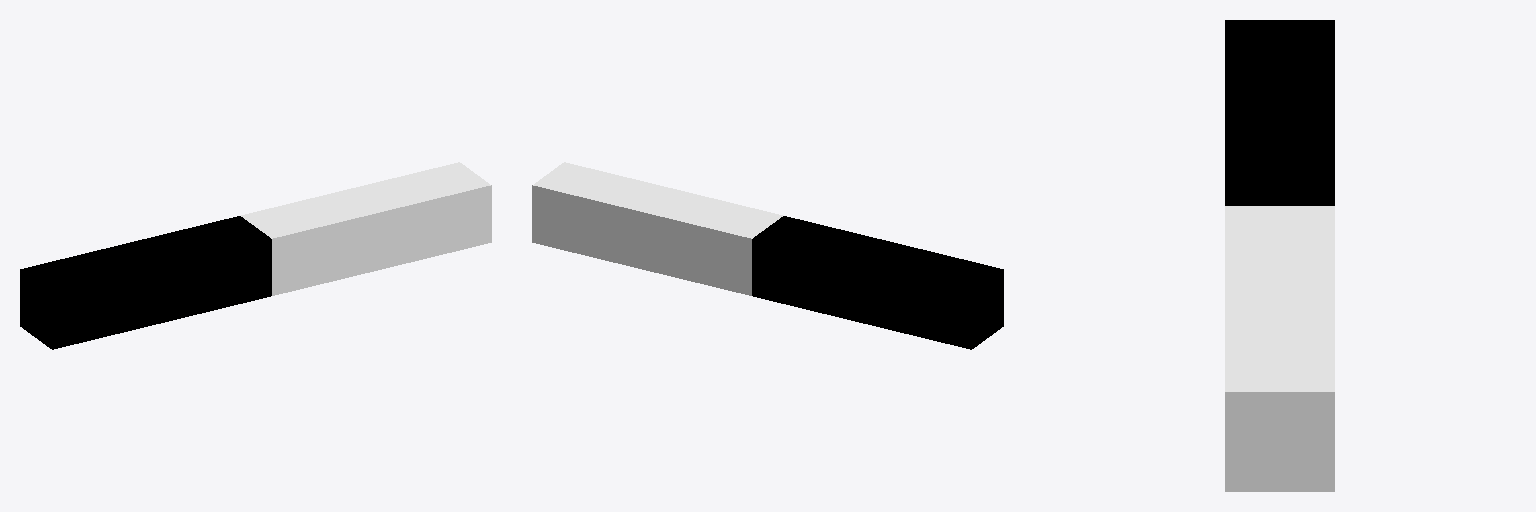
The robot description file, URDF, robot "2link_robot":
<!-- Based off https://github.com/tanay-bits/twolink/blob/master/urdf/2link_robot.urdf -->
<robot name="2link_robot">
	
	<material name="black">
		<color rgba="0 0 0 0.7"/>
	</material>
	<material name="white">
		<color rgba="1 1 1 0.7"/>
	</material>

	<link name="base"/>

	<link name="arm1">
		<visual>
			<geometry>
				<box size="0.2 .05 .05"/>
			</geometry>
			<origin rpy="0 0 0" xyz="0.1 0 0"/>
			<material name="black"/>
		</visual>
	</link>

	<joint name="baseHinge" type="continuous">
		<axis rpy="0 0 0" xyz="0 0 1"/>
		<parent link="base"/>
		<child link="arm1"/>
	</joint>

	<link name="arm2">
		<visual>
			<geometry>
				<box size="0.2 .05 .05"/>
			</geometry>
			<origin rpy="0 0 0" xyz="0.1 0 0"/>
			<material name="white"/>
		</visual>
	</link>

	<joint name="interArm" type="continuous">
		<axis rpy="0 0 0" xyz="0 0 1"/>
		<parent link="arm1"/>
		<child link="arm2"/>
		<origin rpy="0 0 0" xyz="0.2 0 0"/>
	</joint>

	<link name="endEffector"/>

	<joint name="ee_joint" type="fixed">
		<parent link="arm2"/>
		<child link="endEffector"/>
		<origin rpy="0 0 0" xyz="0.2 0 0"/>
	</joint>

    <transmission name="baseHinge">
      <type>transmission_interface/SimpleTransmission</type>
      <joint name="baseHinge">
        <hardwareInterface>hardware_interface/EffortJointInterface</hardwareInterface>
      </joint>
      <actuator name="baseHinge">
        <hardwareInterface>hardware_interface/EffortJointInterface</hardwareInterface>
        <mechanicalReduction>1</mechanicalReduction>
      </actuator>
    </transmission>
    <transmission name="interArm">
      <type>transmission_interface/SimpleTransmission</type>
      <joint name="interArm">
        <hardwareInterface>hardware_interface/EffortJointInterface</hardwareInterface>
      </joint>
      <actuator name="interArm">
        <hardwareInterface>hardware_interface/EffortJointInterface</hardwareInterface>
        <mechanicalReduction>1</mechanicalReduction>
      </actuator>
    </transmission>

</robot>

--- What the picture shows (computed from the rendered views, not written in the file) ---
3 views of the same robot in one strip: view 1: azimuth 30°, elevation 25°; view 2: azimuth 150°, elevation 25°; view 3: azimuth 270°, elevation 25° (orthographic).
Model 2link_robot with 4 links and 3 joints (2 continuous, 1 fixed), rooted at base, posed all joints at 0.
Visible links, largest first — view 1: arm1, arm2; view 2: arm1, arm2; view 3: arm2, arm1.
Boxes of the visible links, bbox=[...] form: arm1: bbox=[20, 216, 271, 349]; arm2: bbox=[241, 162, 491, 295]; arm1: bbox=[752, 216, 1003, 349]; arm2: bbox=[532, 162, 782, 295]; arm2: bbox=[1225, 206, 1334, 491]; arm1: bbox=[1225, 20, 1334, 205].
Bounding box of the posed robot: 0.4 × 0.05 × 0.05 m (x, y, z).
Geometry: primitives only (box / cylinder / sphere), no mesh files.